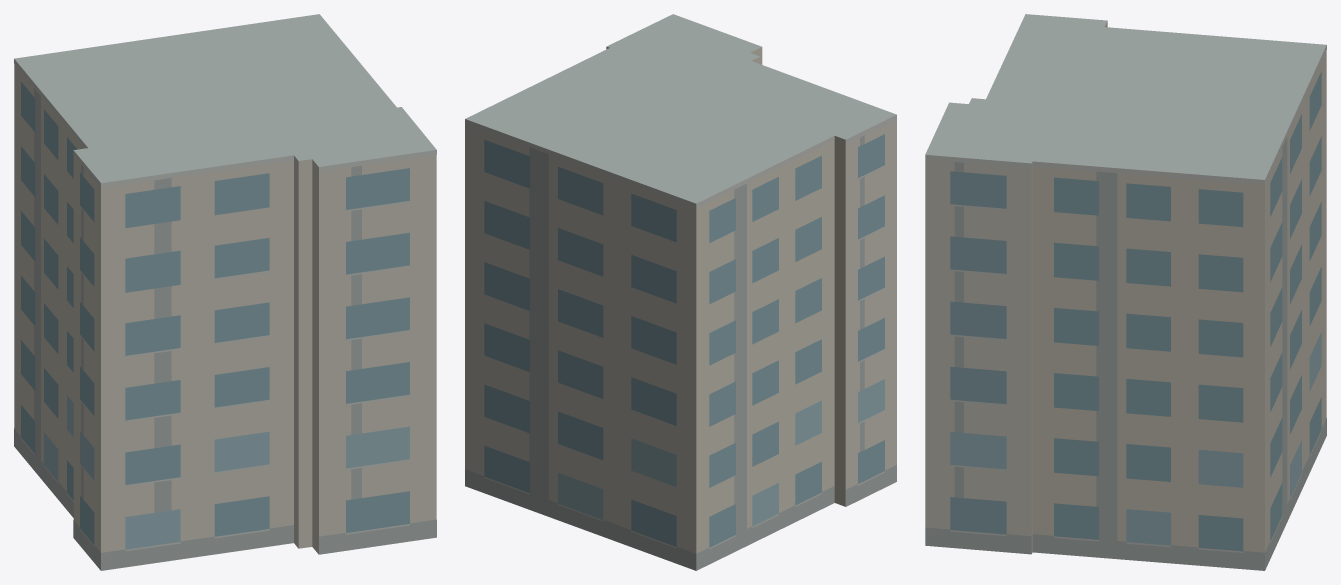
Rendered from survey-upis-32977136.glb.
3 views of the same model, side by side, from view 1: azimuth 30°, elevation 25°; view 2: azimuth 150°, elevation 25°; view 3: azimuth 270°, elevation 25° (orthographic). The views are drawn at different scales.
Visible parts, largest first — view 1: survey-upis-32977136.tmp; view 2: survey-upis-32977136.tmp; view 3: survey-upis-32977136.tmp.
Part boxes in pixels (x1=…): survey-upis-32977136.tmp: x1=14, y1=14, x2=436, y2=570; survey-upis-32977136.tmp: x1=465, y1=14, x2=896, y2=570; survey-upis-32977136.tmp: x1=925, y1=14, x2=1326, y2=570.
Bounding box in the file's own units: 17.49 × 19.2 × 17.89.
